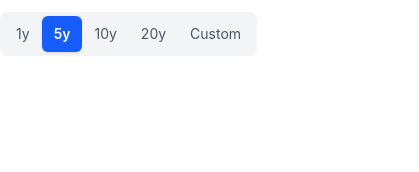
it: HorizonSelector › clicking Custom reveals the year input
Note: Click Custom
Click the radio button "Custom".
click(216, 34)  # box [178, 16, 253, 52]
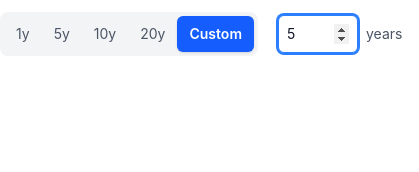
Check: the number field named "Custom projection years" is shown, box [278, 15, 358, 53]
